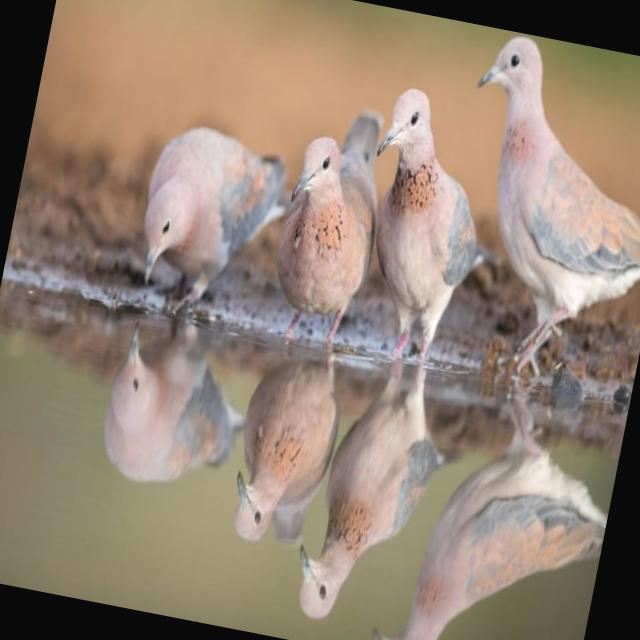bird: (423, 27, 640, 395), (336, 80, 516, 384), (119, 104, 298, 340), (258, 90, 399, 358)
